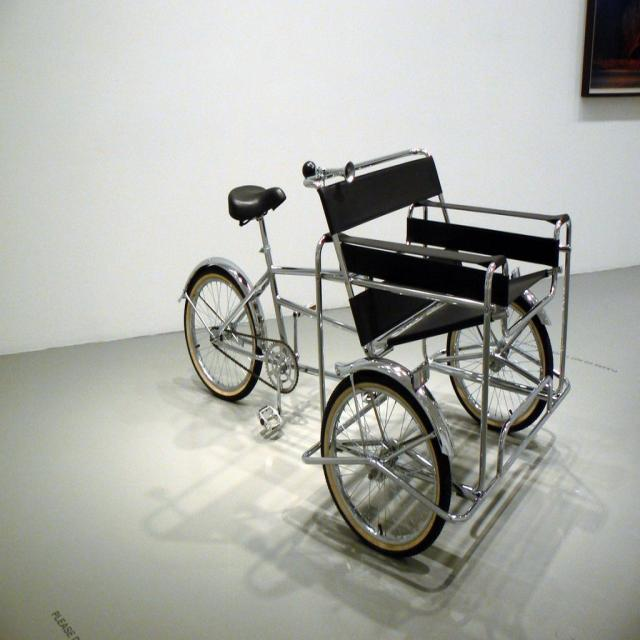wheelchairs: (287, 155, 571, 554)
